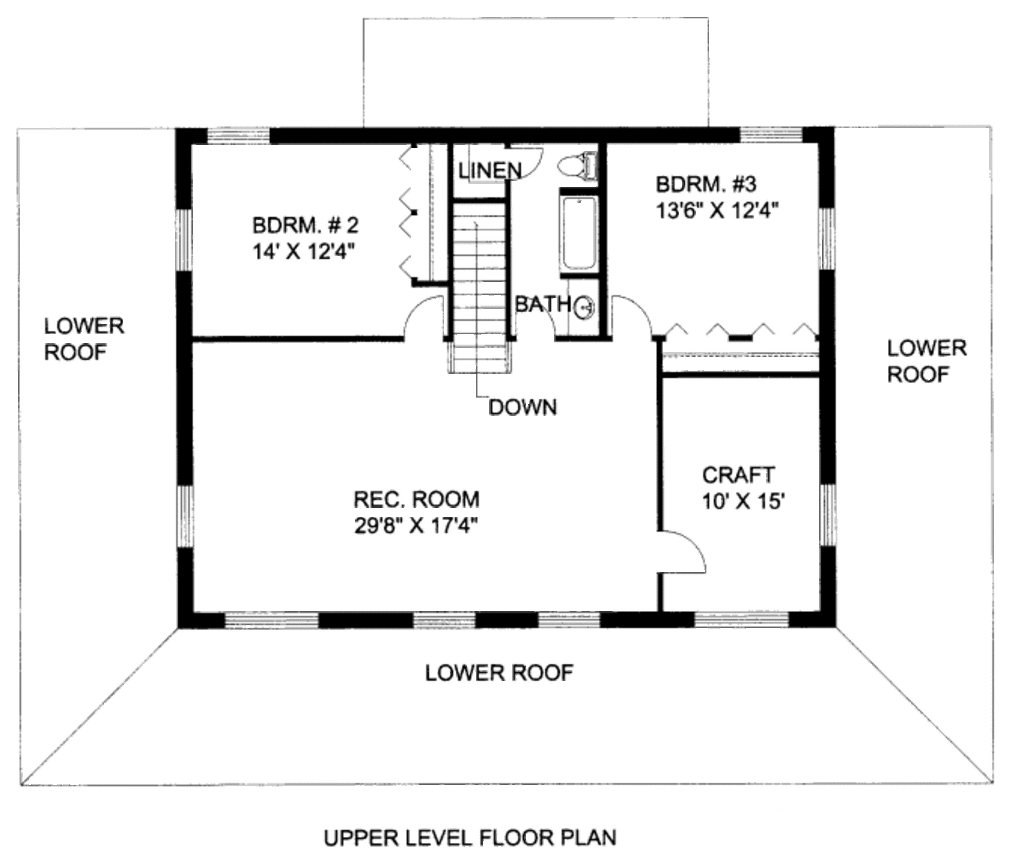door: (650, 527, 716, 576), (513, 289, 564, 350), (400, 288, 445, 347), (607, 293, 655, 343), (499, 139, 547, 179)
large_sink: (549, 139, 607, 178)
small_sink: (566, 278, 608, 335)
stairs: (448, 193, 514, 398)
tub: (553, 185, 599, 272)
window: (165, 481, 202, 558), (221, 611, 324, 637), (691, 607, 790, 634), (413, 605, 480, 644), (526, 605, 603, 636), (815, 472, 843, 553), (813, 202, 845, 272), (194, 127, 279, 147), (173, 208, 198, 273), (741, 127, 805, 147)
